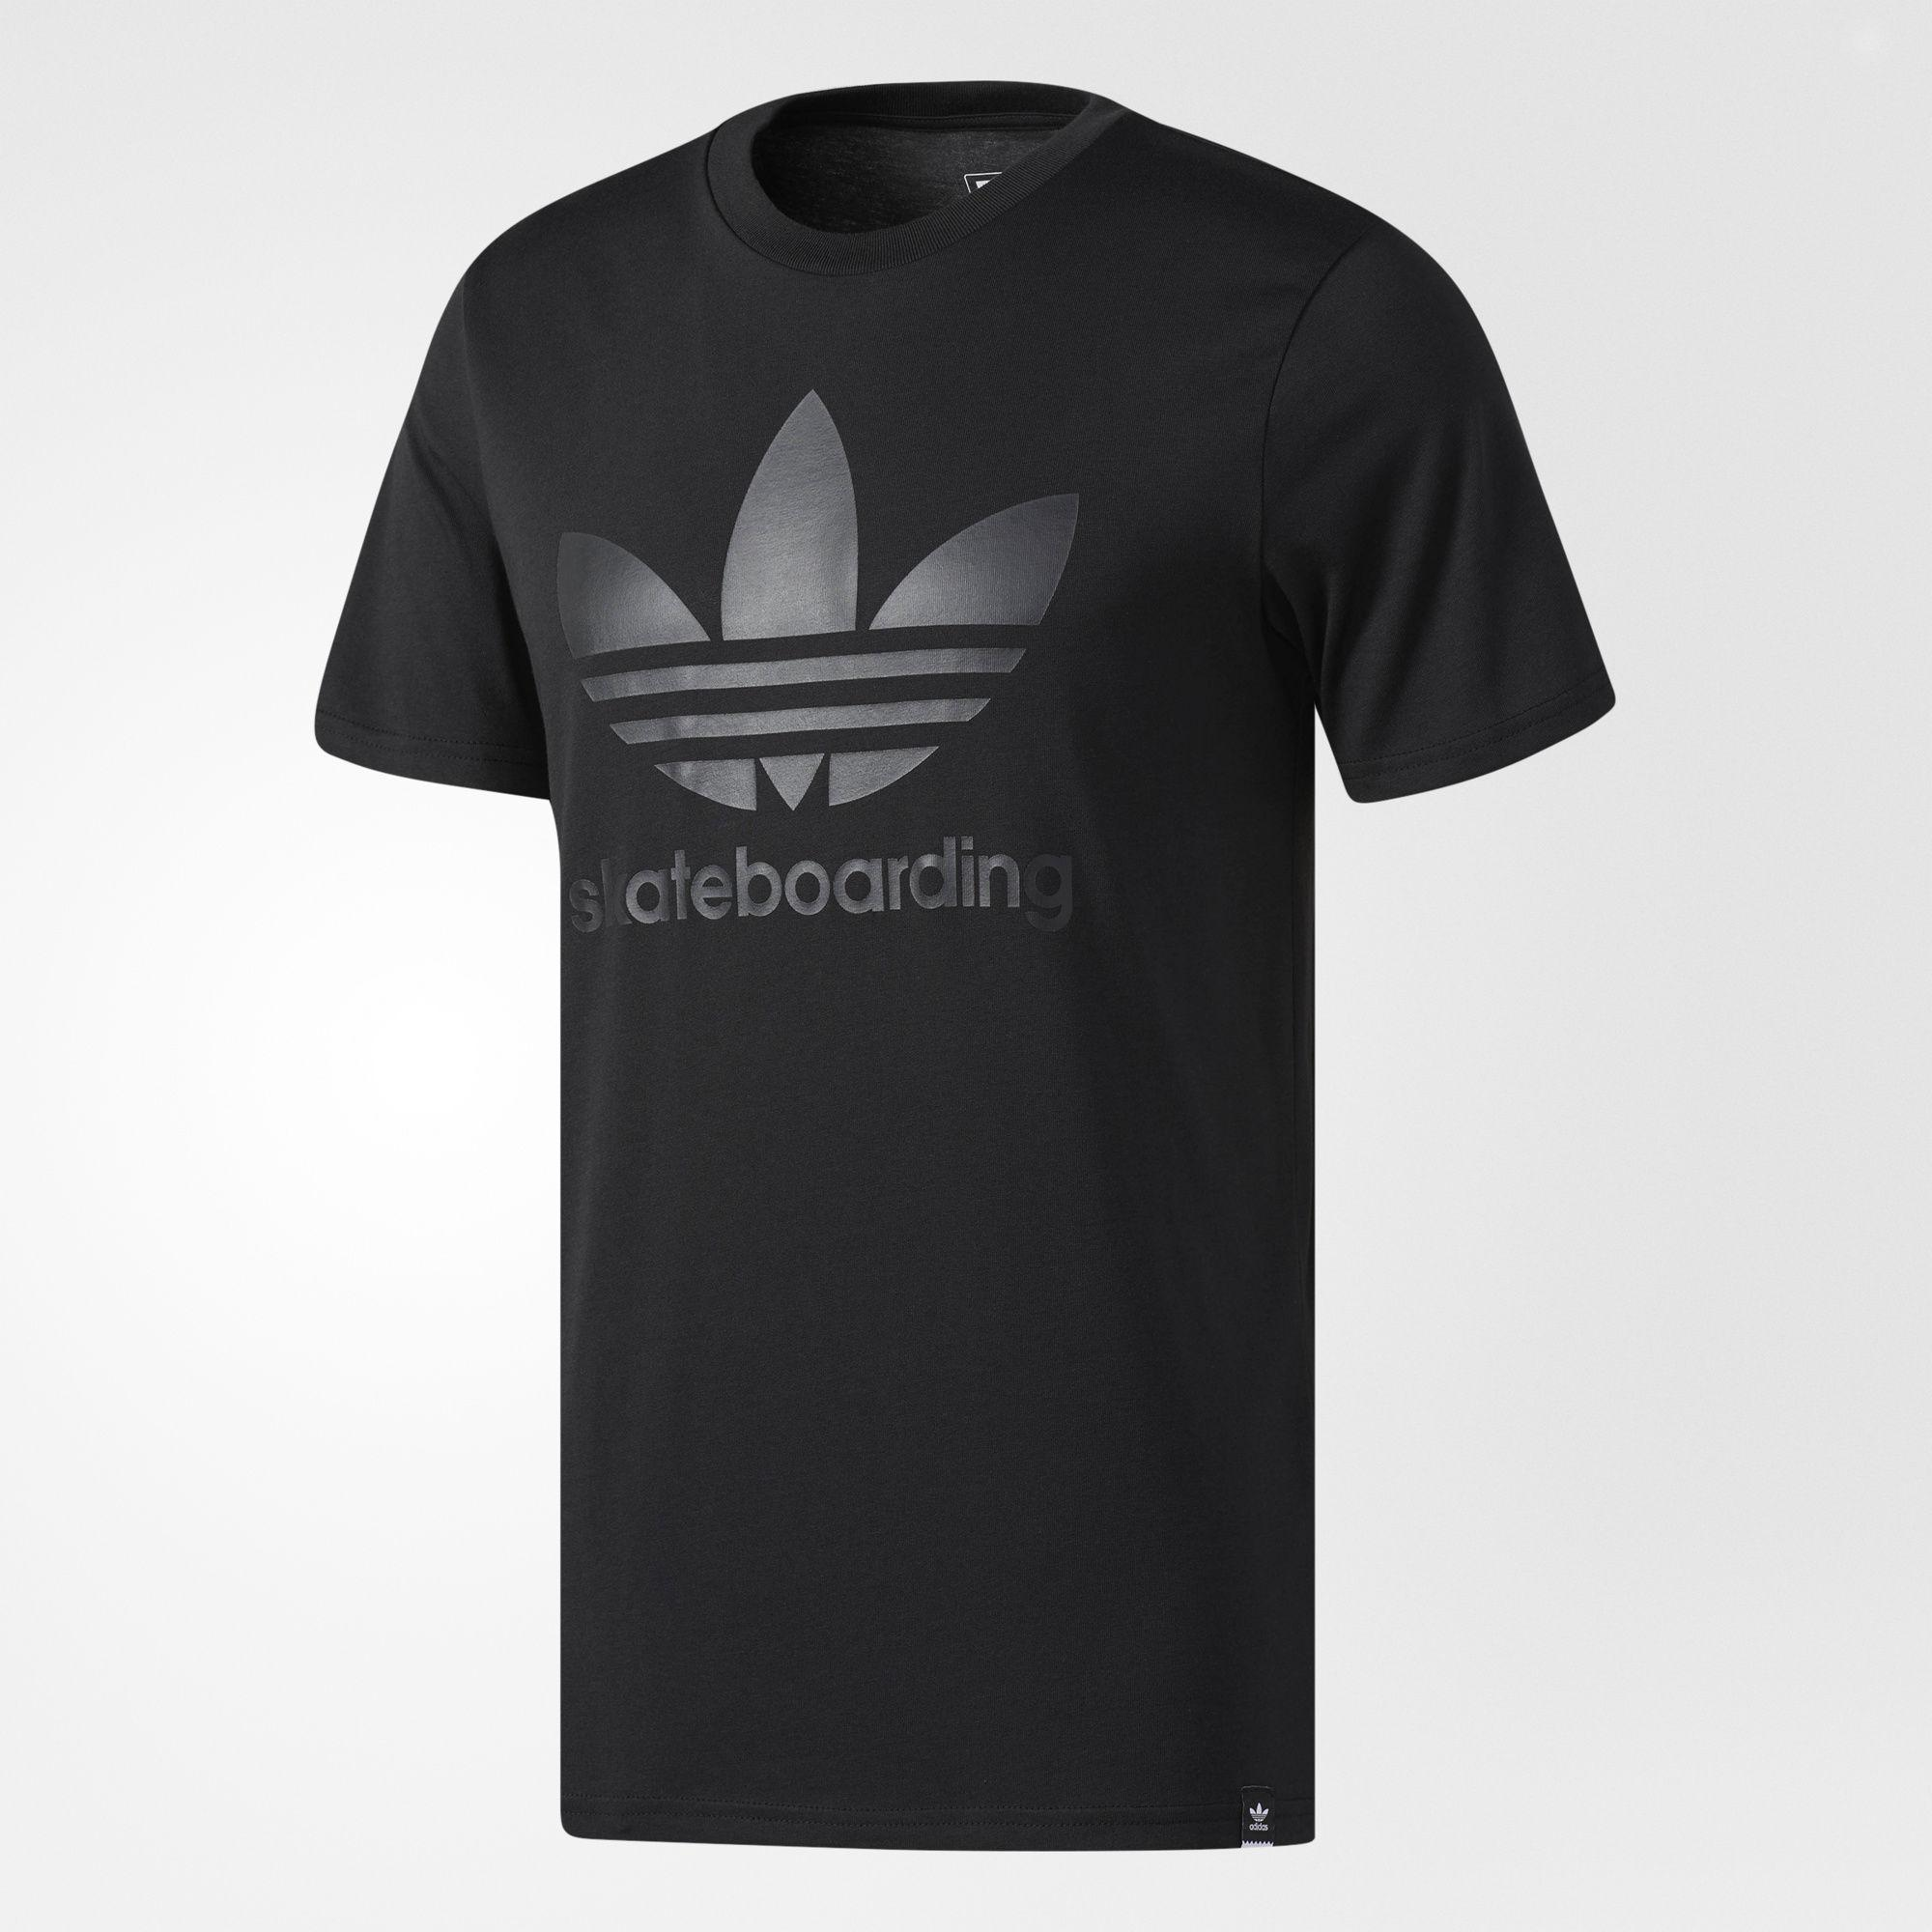teeshirt: (182, 85, 1688, 1872)
